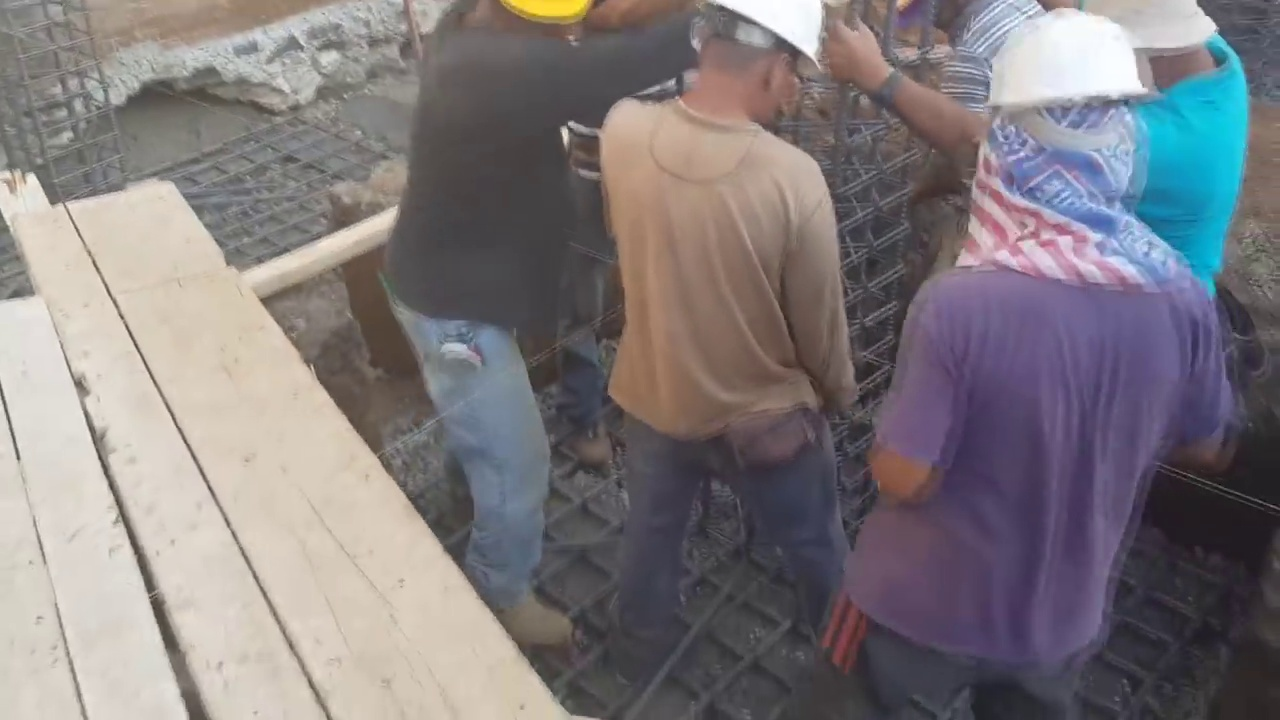helmet: (991, 11, 1156, 135), (680, 3, 823, 78)
helmet-off: (1083, 4, 1234, 96)
helmet-on: (988, 16, 1164, 245), (666, 3, 828, 130)
person: (841, 4, 1236, 720), (577, 0, 878, 694), (377, 3, 634, 653), (1083, 3, 1257, 303), (896, 2, 1063, 280)
